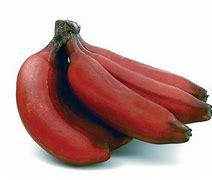banana: (22, 21, 212, 154)
